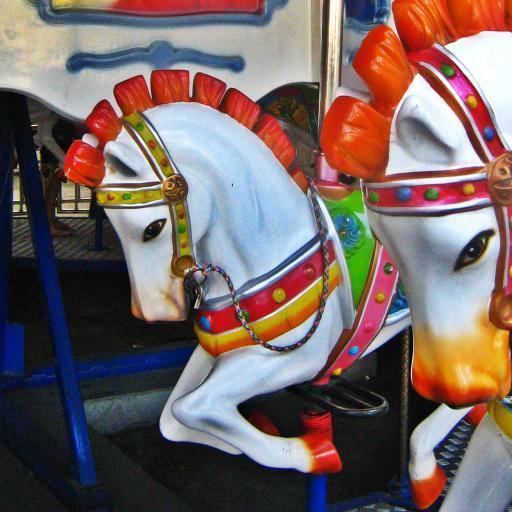horse: (64, 70, 487, 510), (317, 0, 512, 512)
